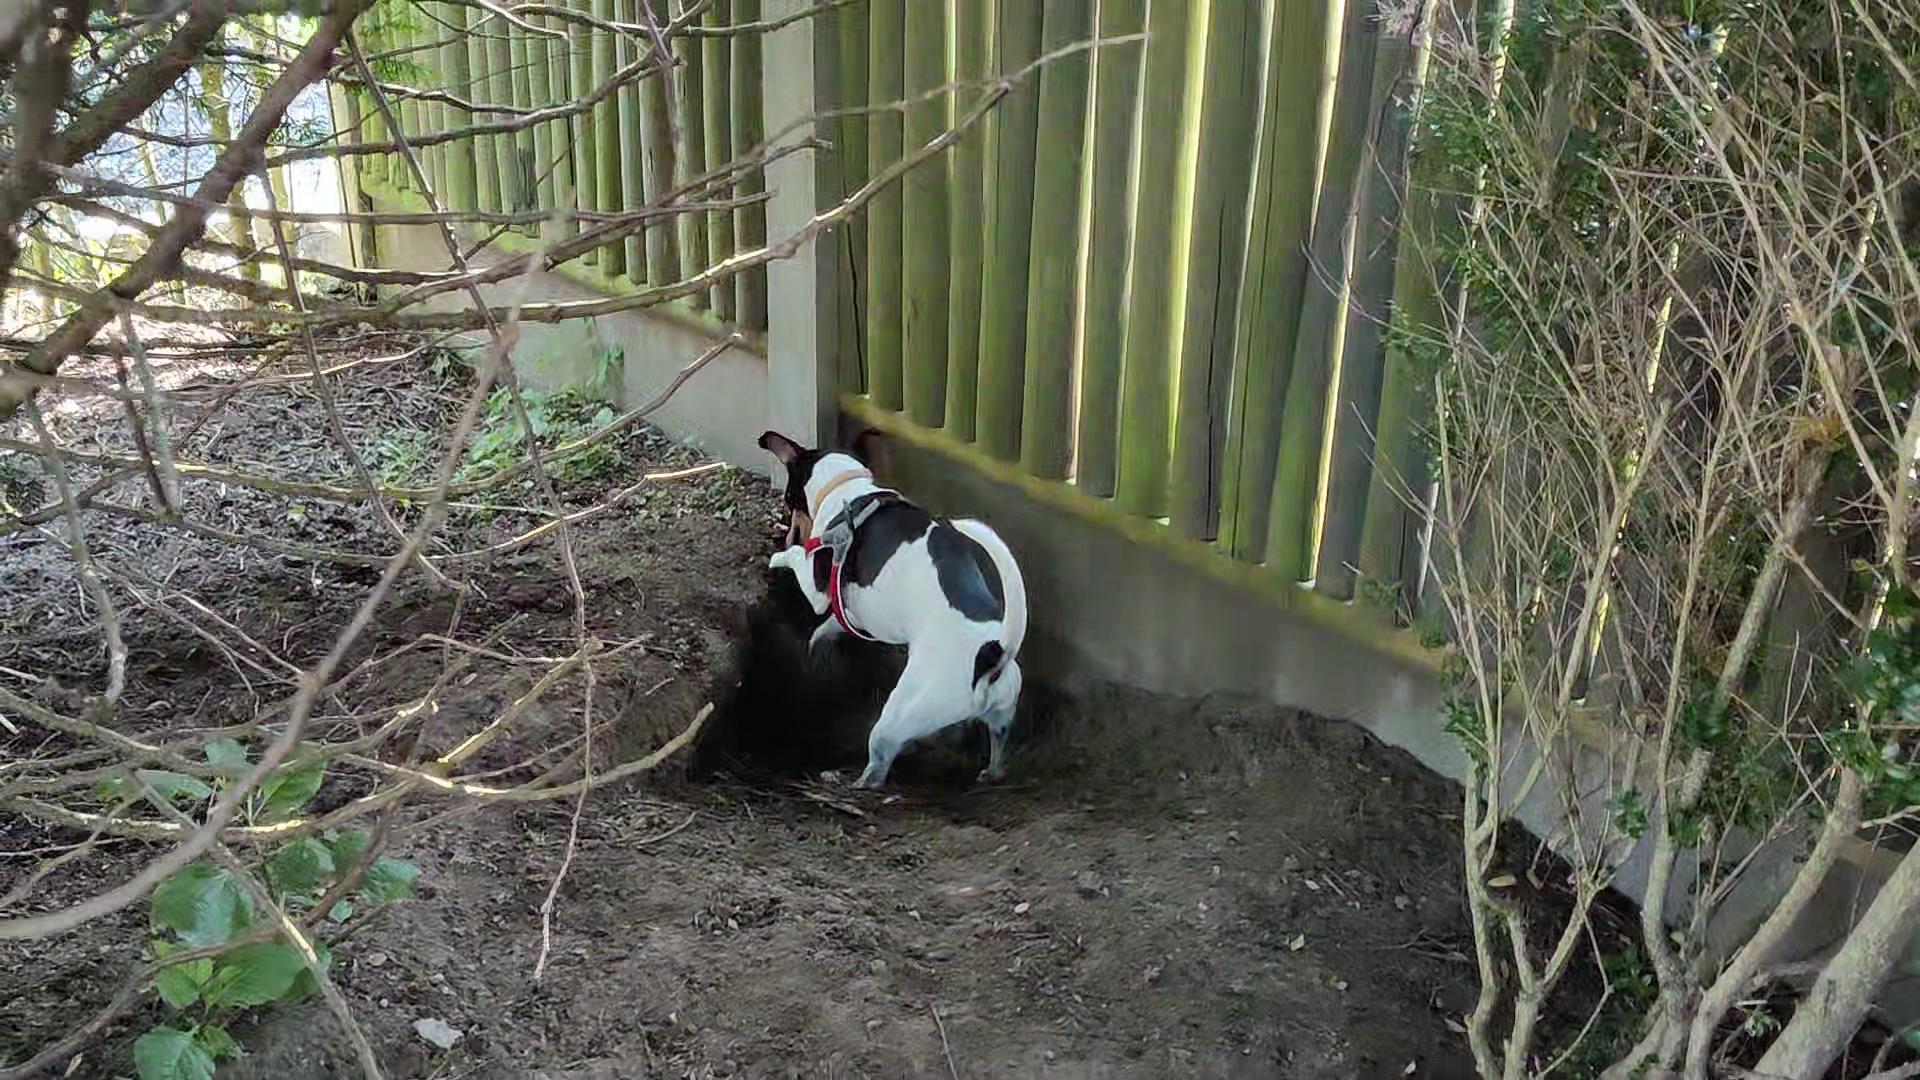Dog: (740, 411, 1033, 796)
